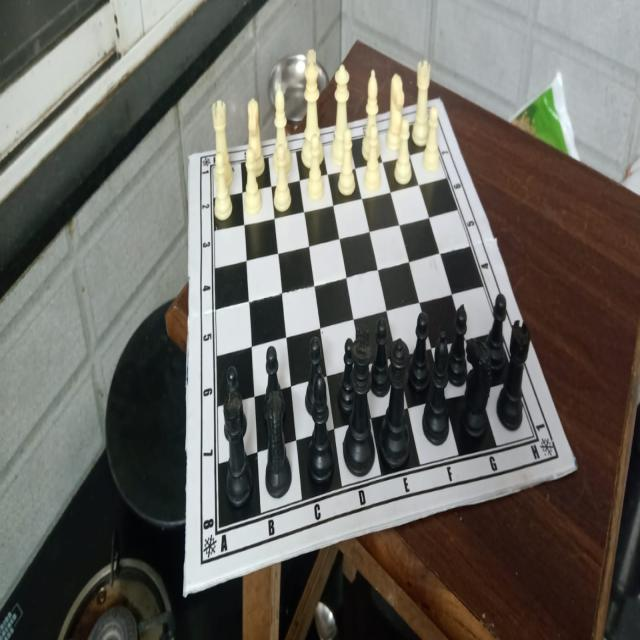corners: (174, 573, 196, 607), (564, 449, 582, 480), (436, 88, 446, 114), (186, 150, 196, 168)
